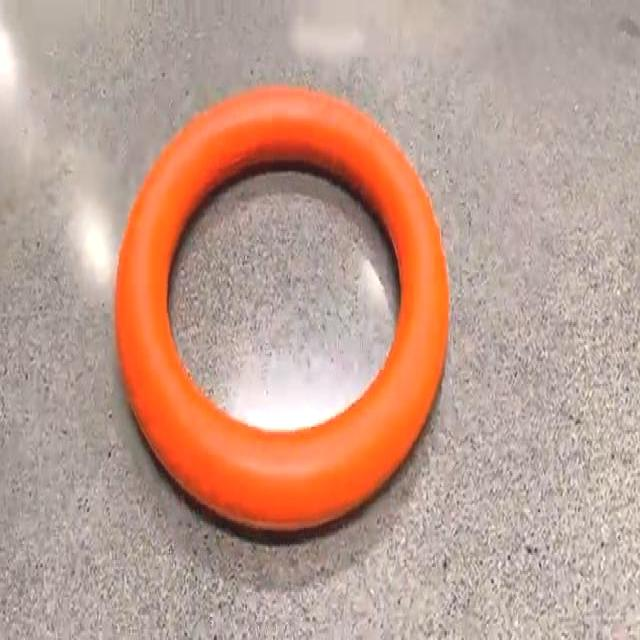note: (116, 87, 449, 530)
